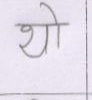e_matra: (40, 2, 62, 23)
